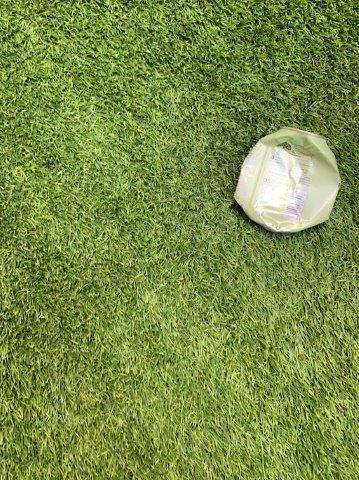kaleng: (235, 128, 340, 234)
